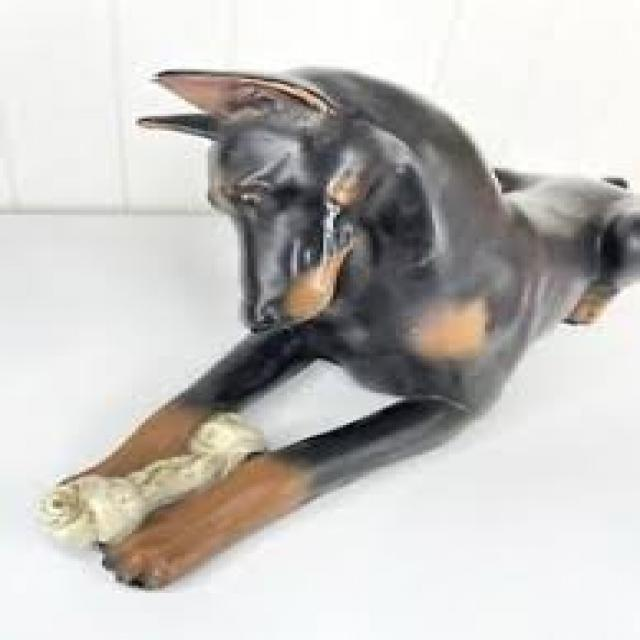Dog: (45, 62, 640, 593)
